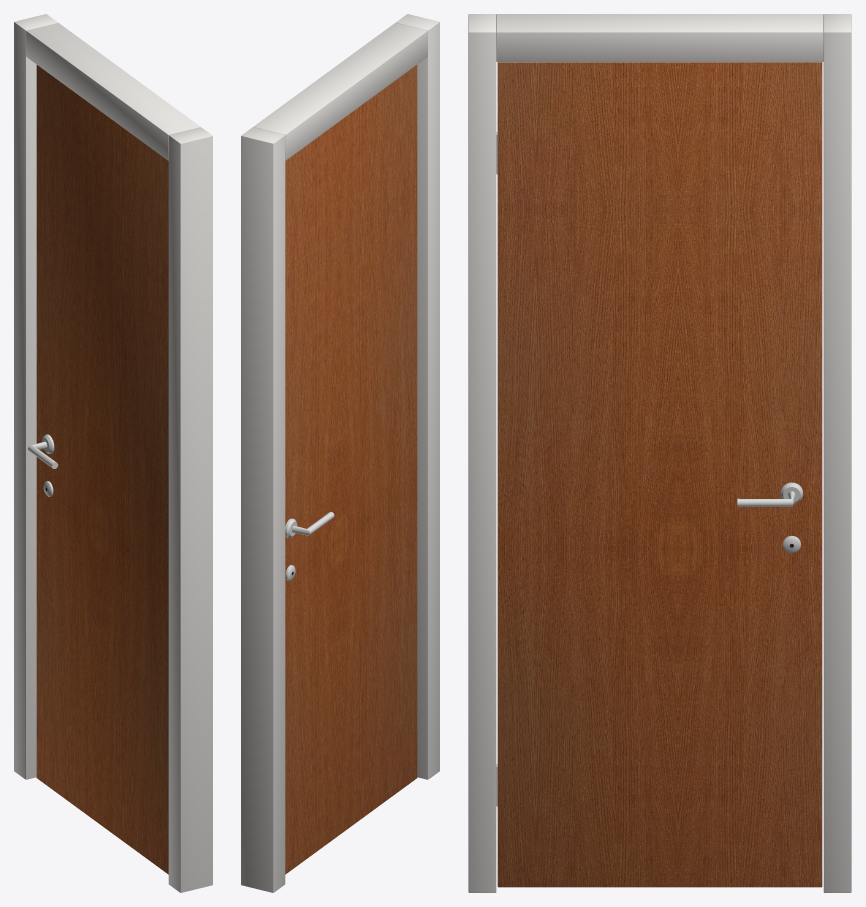
The model's file is recVQ72JPioJ3dGIy.glb.
3 views of the same model, side by side, from view 1: azimuth 30°, elevation 25°; view 2: azimuth 150°, elevation 25°; view 3: azimuth 270°, elevation 25° (orthographic). The views are drawn at different scales.
Parts seen in each view (by area): view 1: porte_salle_de_bain__battant, porte_salle_de_bain__cadre; view 2: porte_salle_de_bain__battant, porte_salle_de_bain__cadre; view 3: porte_salle_de_bain__battant, porte_salle_de_bain__cadre.
Part boxes in pixels (x1=…): porte_salle_de_bain__battant: x1=28, y1=65, x2=168, y2=874; porte_salle_de_bain__cadre: x1=14, y1=14, x2=212, y2=892; porte_salle_de_bain__battant: x1=285, y1=65, x2=417, y2=874; porte_salle_de_bain__cadre: x1=241, y1=14, x2=439, y2=892; porte_salle_de_bain__battant: x1=496, y1=62, x2=822, y2=887; porte_salle_de_bain__cadre: x1=468, y1=14, x2=851, y2=892.
Size of the model in its own units: 0.1689 by 2.18 by 0.8791.
Materials: 4 (1 with a texture image).
